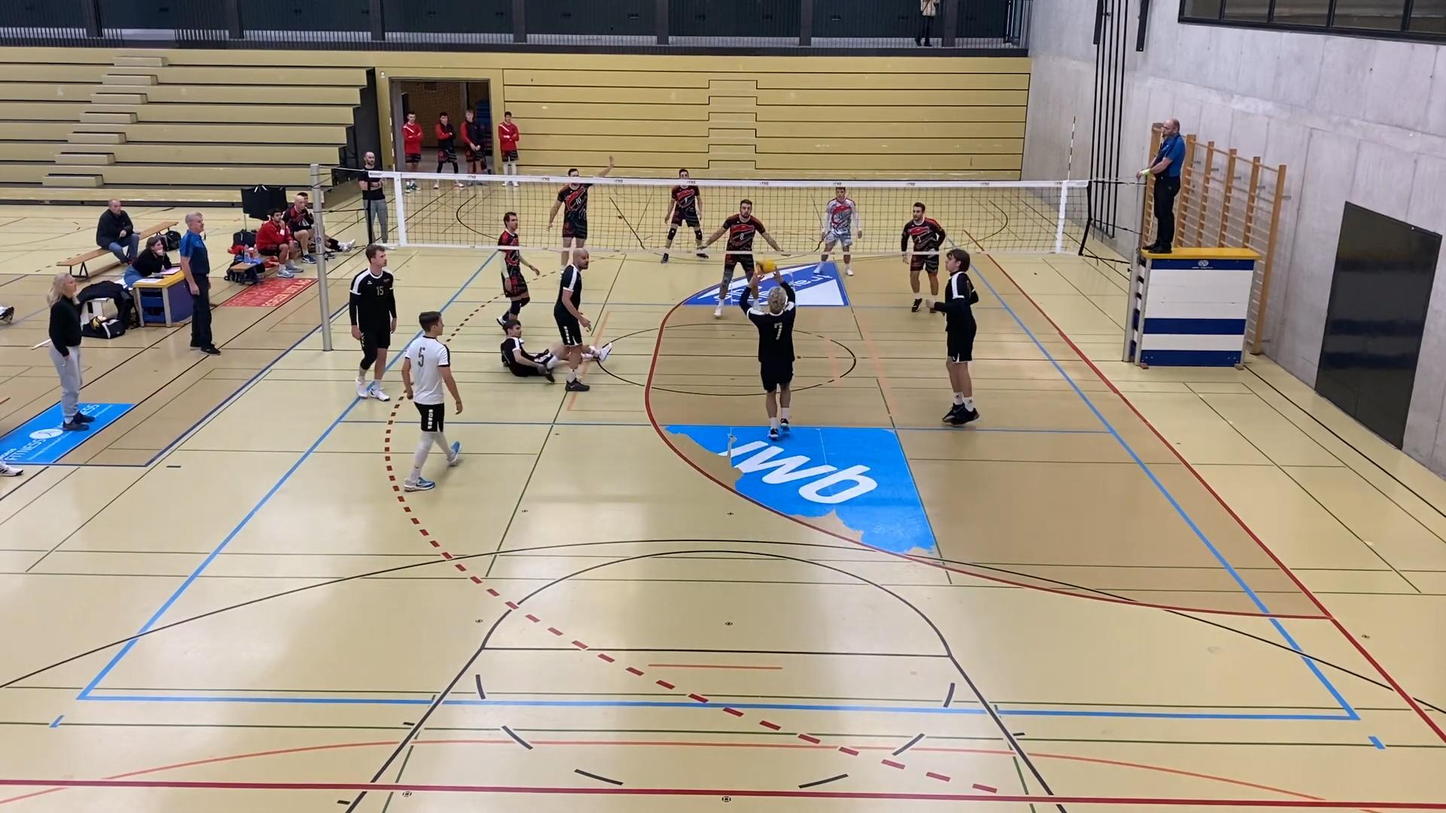difesa: (733, 268, 801, 437)
